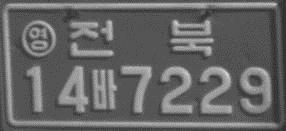1: (21, 63, 53, 113)
2: (158, 64, 193, 115), (198, 65, 233, 115)
4: (57, 65, 88, 113)
7: (120, 64, 152, 113)
9: (238, 66, 272, 115)
바: (91, 68, 117, 110)
영: (20, 19, 57, 57)
전북_D: (67, 19, 214, 58)
